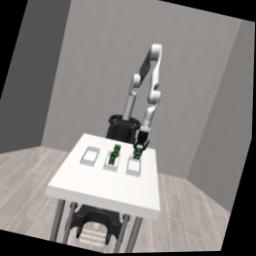cube1: (113, 144, 122, 158)
cube2: (108, 153, 118, 166)
cube3: (133, 147, 144, 161)
